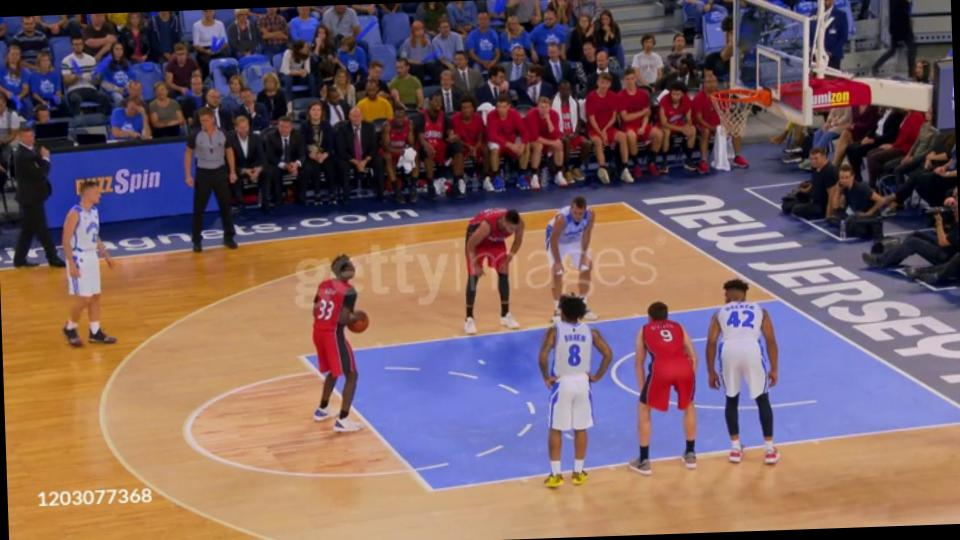hoop: (710, 85, 778, 113)
